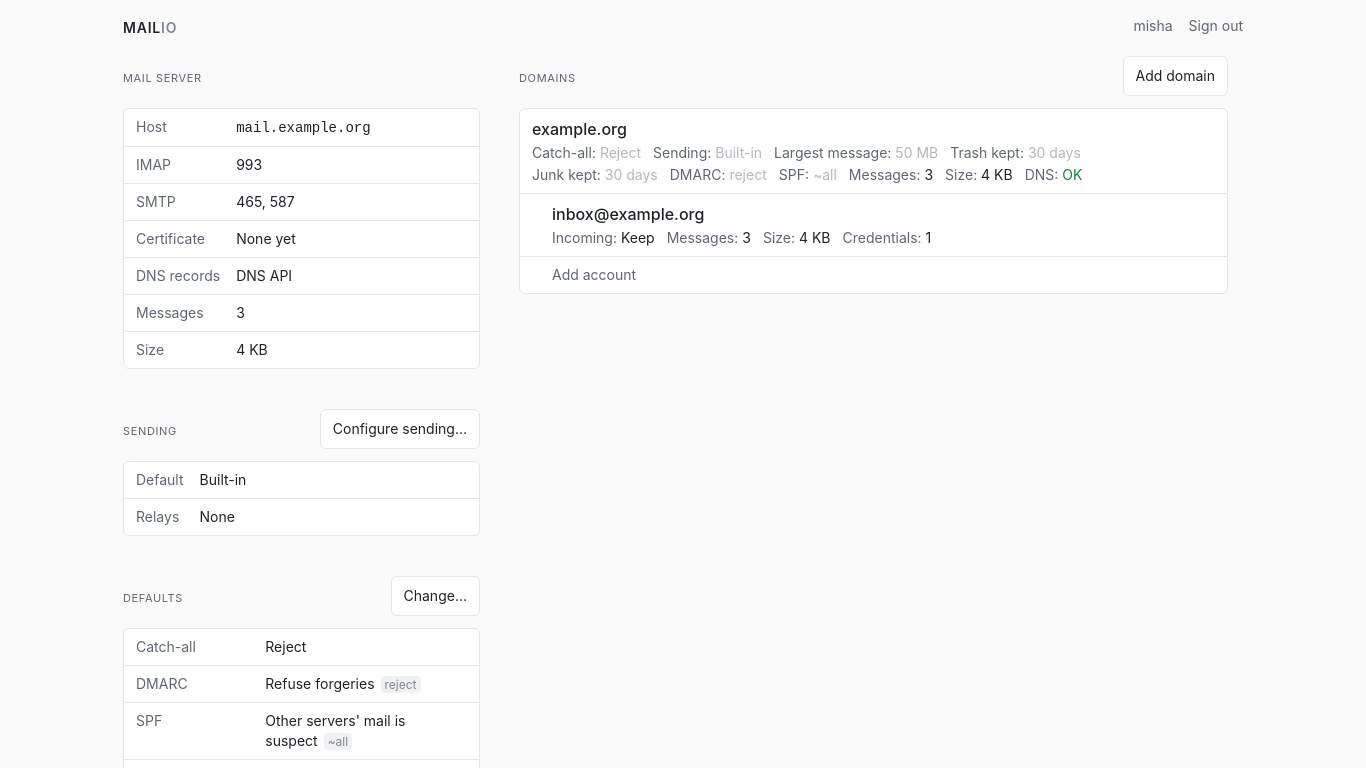
Scenario: an alias is added of an account that keeps its mail, shows no password, and is a pill under the account, which opens it
Click the button "Add account": (594, 274) [520,257,1227,293]
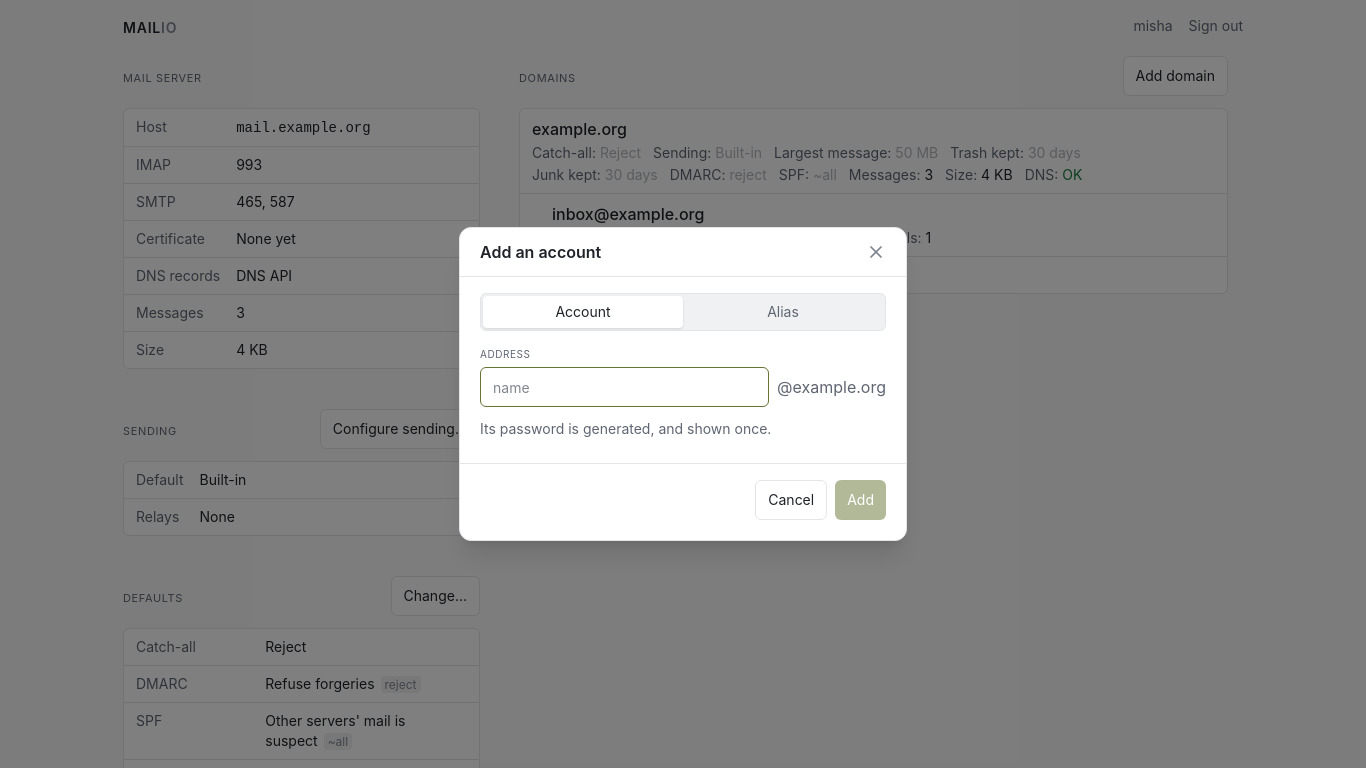
Click the radio button labelled "Alias": (783, 312) [683,296,883,328]
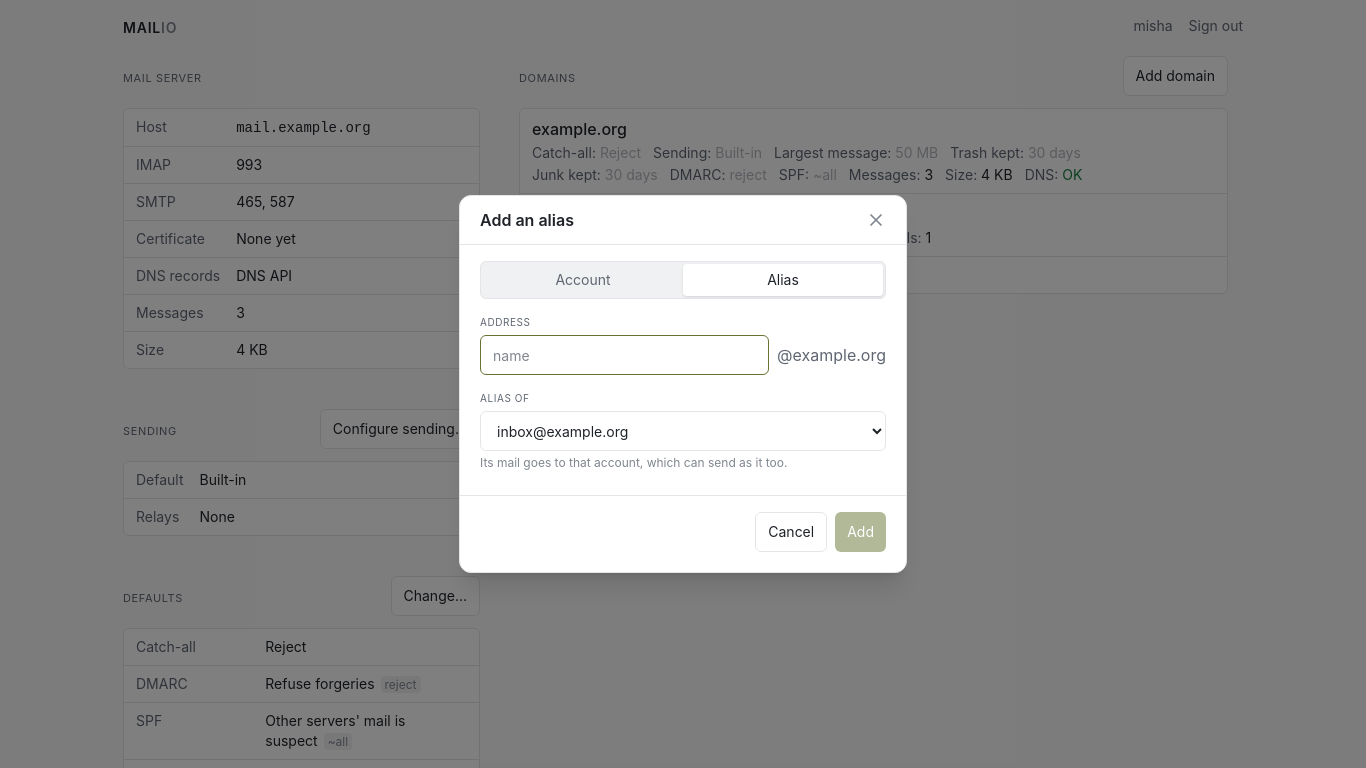
In the field named "Name at example.org": (625, 355) [480,335,769,375], type "shop"
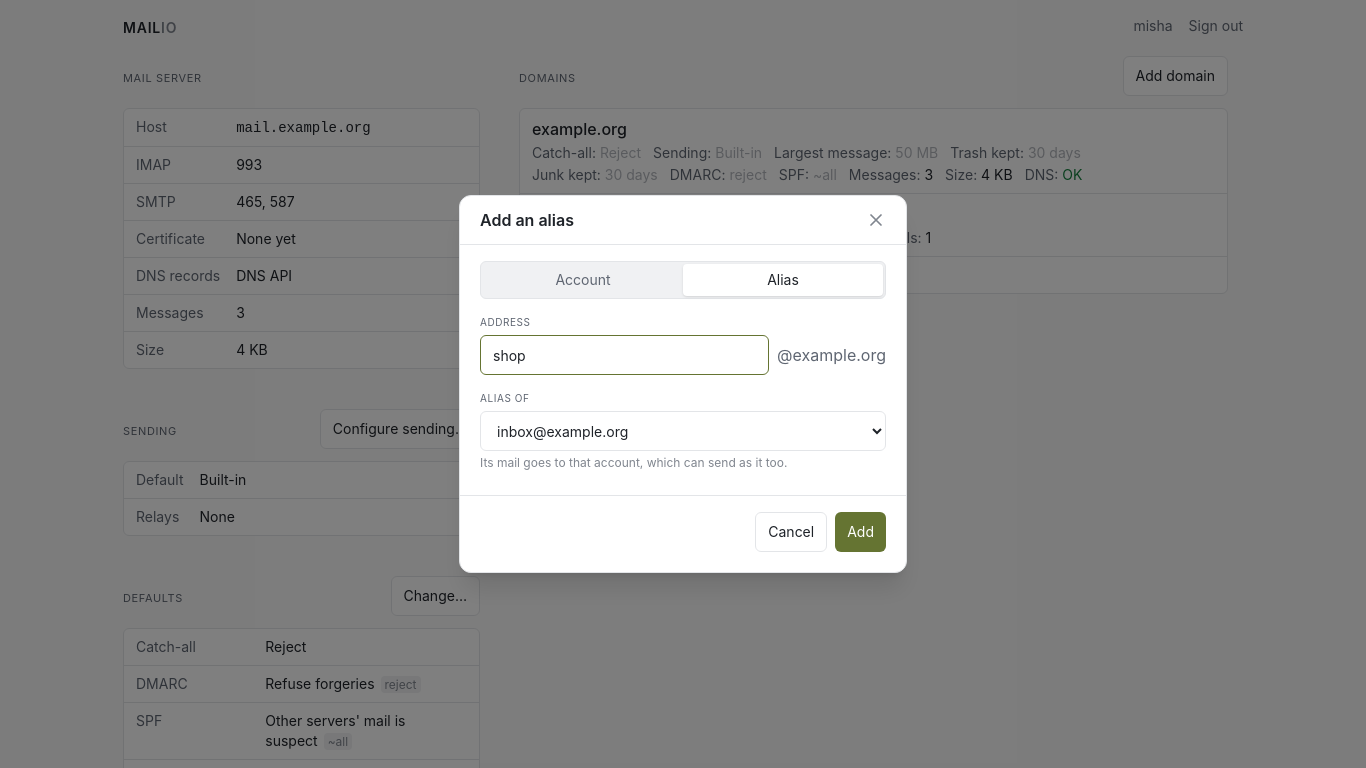
Expected: the dropdown labelled "Alias of" shows "inbox@example.org", [480,411,886,451]
Click the button "Add": (861, 532) [835,512,886,552]
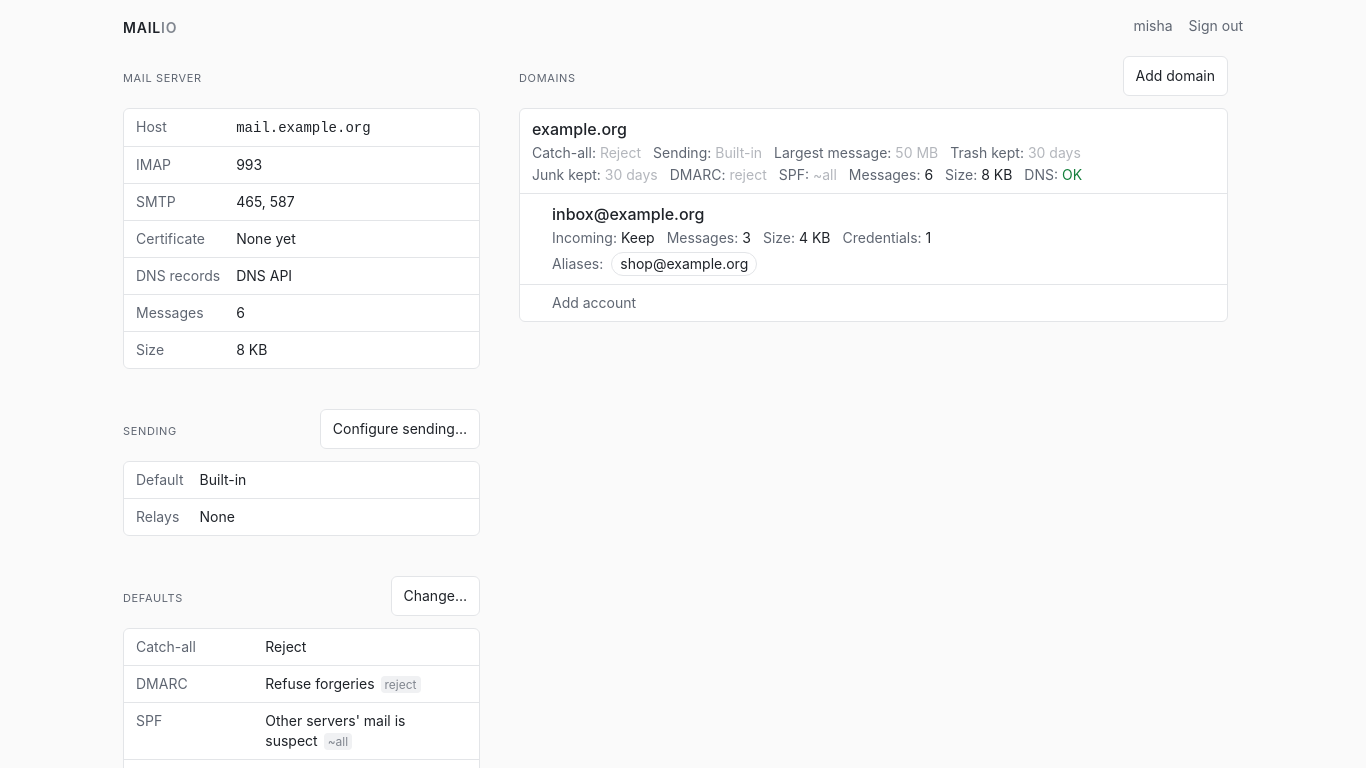
Expected: the heading "Add an alias" is gone
Expected: the text "Aliases:" is shown, [552,254,603,274]
Click the button "shop@example.org": (684, 264) [611,252,757,276]
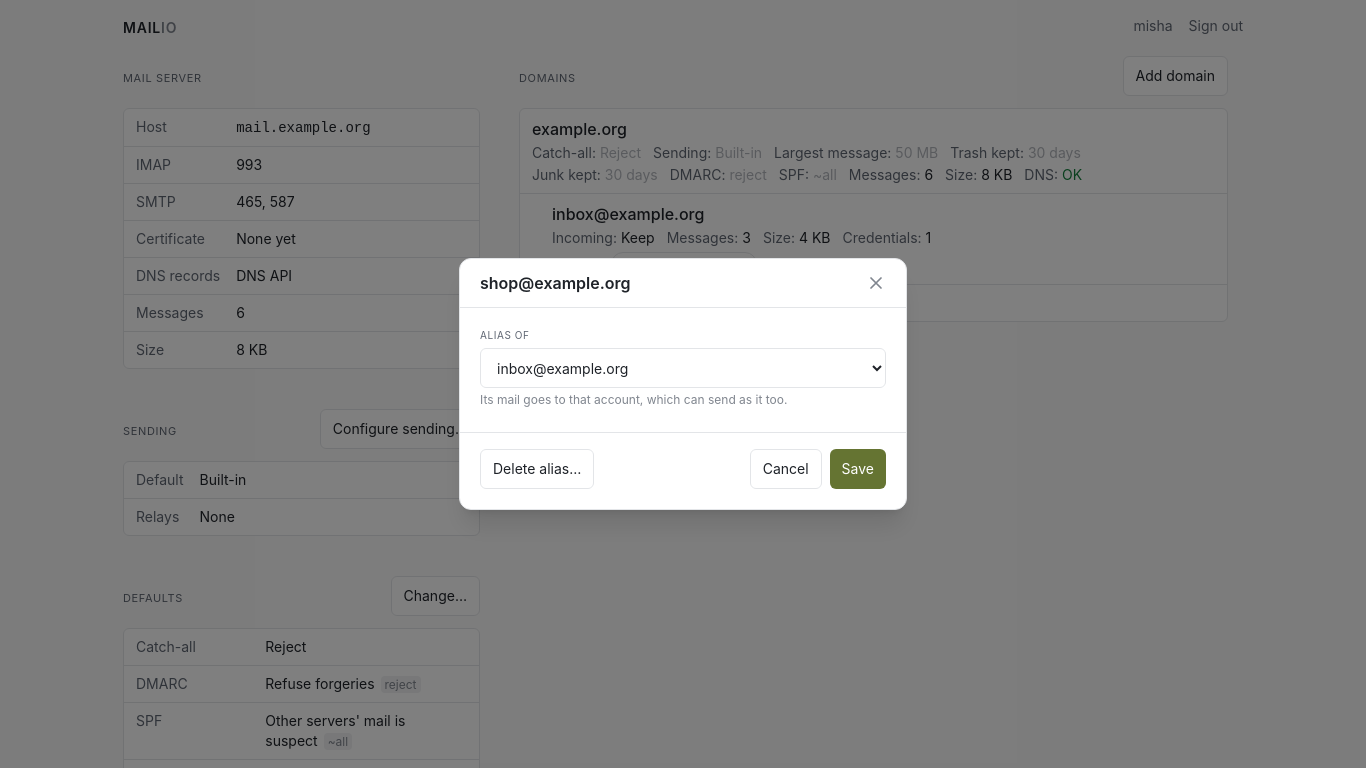
Expected: the dropdown labelled "Alias of" shows "inbox@example.org", [480,348,886,388]
